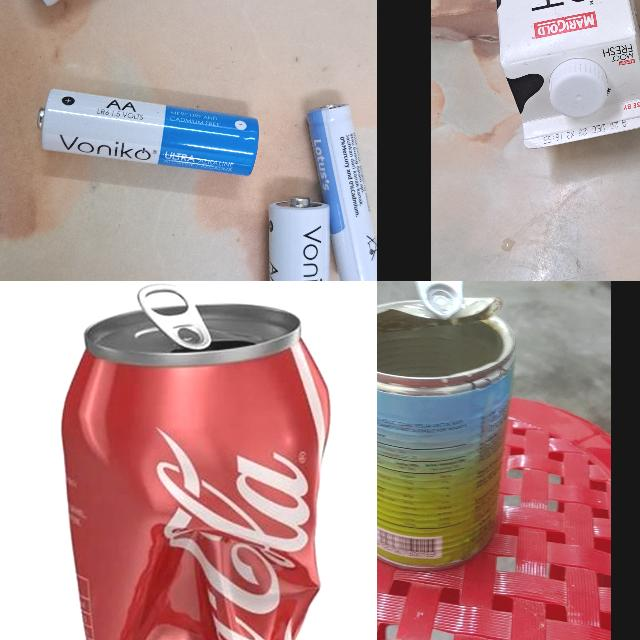aba de lata: (136, 282, 214, 350), (404, 281, 466, 319)
bateria: (38, 86, 260, 178), (305, 99, 377, 281), (267, 195, 330, 281)
caixinha: (481, 0, 640, 150)
lata: (61, 302, 336, 640), (377, 281, 510, 575)
tampa plástica: (548, 57, 608, 115)
